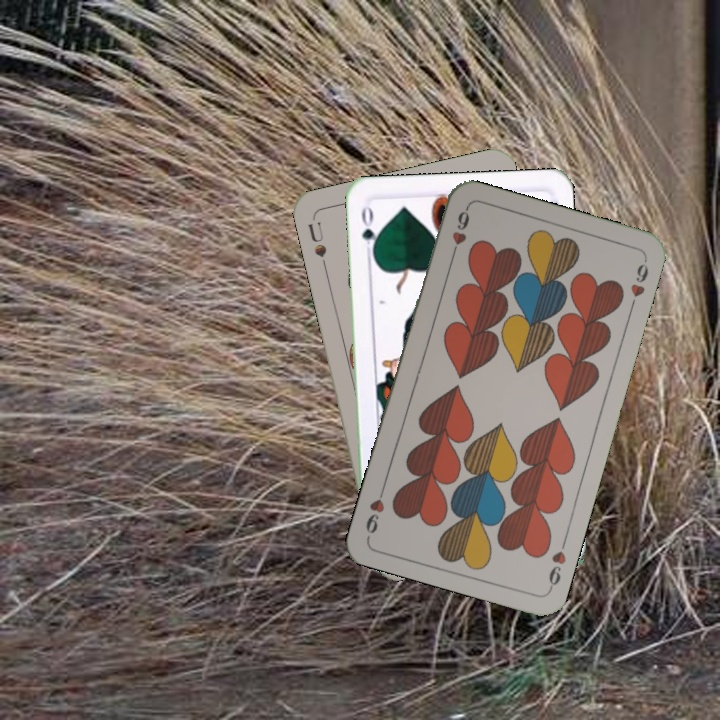GO: (357, 201, 381, 260)
H9: (544, 535, 570, 593), (447, 204, 472, 262)
SU: (304, 215, 330, 273)
